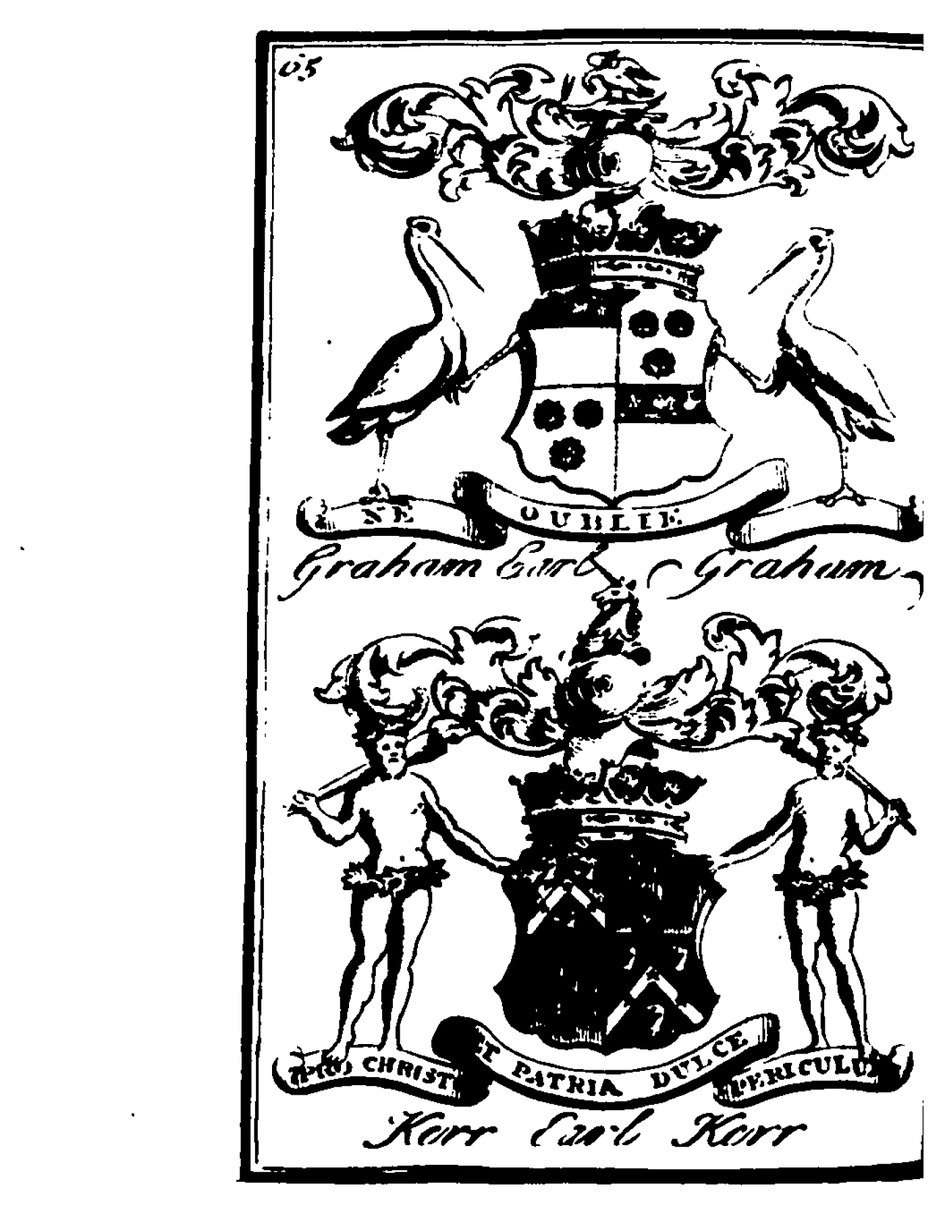coat_of_arms: (270, 49, 928, 595), (292, 603, 921, 1161)
